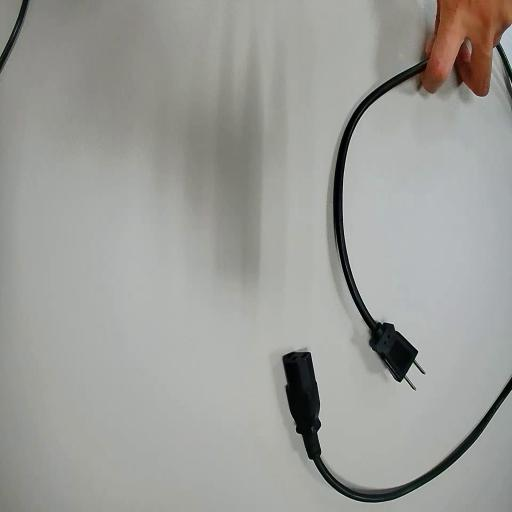wire: (283, 353, 511, 500), (333, 54, 428, 380)
